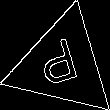P_S: (37, 35, 87, 95)
